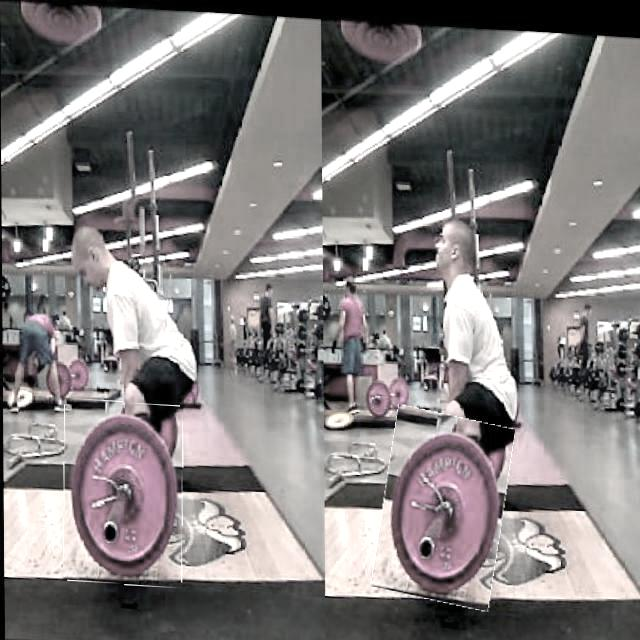barbell: (377, 404, 510, 604), (63, 397, 183, 587)
